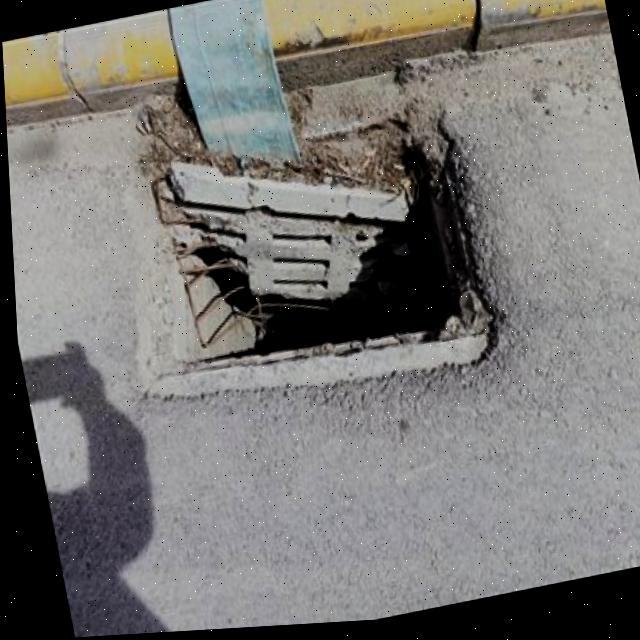manhole: (124, 99, 489, 408)
